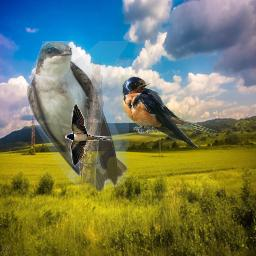Swallow: (27, 41, 129, 194), (121, 75, 217, 148), (65, 103, 112, 167)
